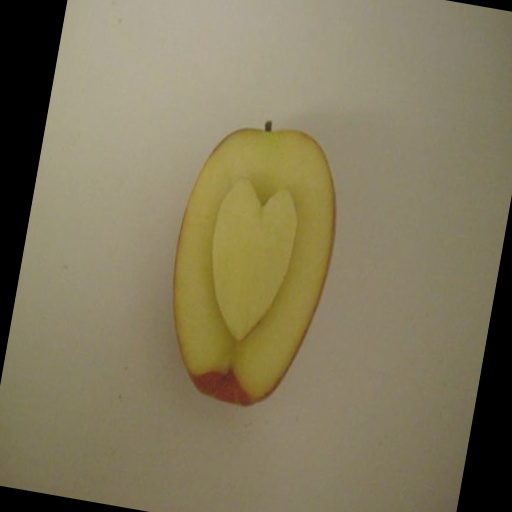fruit: (174, 127, 335, 405)
